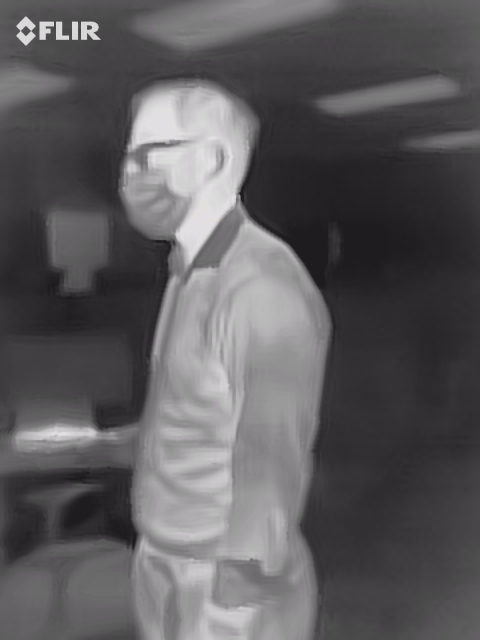head: (117, 75, 260, 241)
